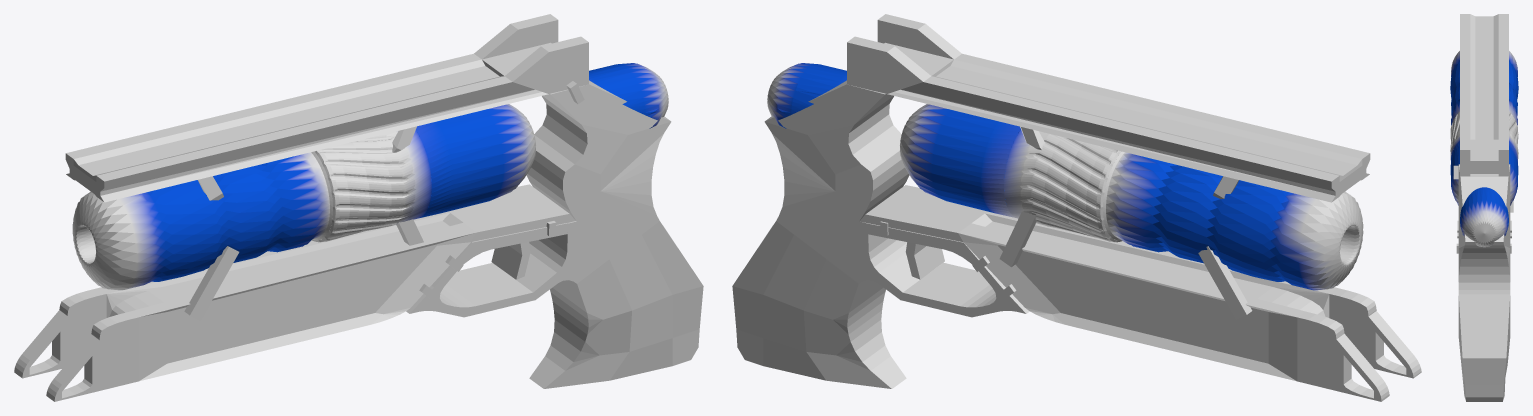
The model's file is Revolver.fbx.
3 views of the same model, side by side, from view 1: azimuth 30°, elevation 25°; view 2: azimuth 150°, elevation 25°; view 3: azimuth 270°, elevation 25° (orthographic). The views are drawn at different scales.
Visible parts, largest first — view 1: Cube, Cube.001, Cylinder, Cube.002, Cylinder.001, Cylinder.002, Cube.016, Cube.011; view 2: Cube, Cube.001, Cylinder, Cube.002, Cylinder.001, Cylinder.002, Cube.015, Cube.011, Cube.013; view 3: Cube, Cube.002, Cylinder.002, Cylinder, Cylinder.001, Cube.003.
Part boxes in pixels (x1,y1,x2,y2): Cube: (406,80,703,388); Cube.001: (14,184,575,401); Cylinder: (72,104,535,290); Cube.002: (65,14,588,202); Cylinder.001: (312,130,431,242); Cylinder.002: (589,63,668,128); Cube.016: (184,246,239,320); Cube.011: (491,242,530,279); Cube: (732,80,1029,388); Cube.001: (859,185,1421,401); Cylinder: (900,104,1363,290); Cube.002: (847,14,1370,202); Cylinder.001: (1004,129,1122,242); Cylinder.002: (767,63,846,128); Cube.015: (1198,246,1252,319); Cube.011: (905,242,944,279); Cube.013: (999,211,1036,267); Cube: (1458,164,1510,401); Cube.002: (1460,14,1508,176); Cylinder.002: (1460,187,1508,247); Cylinder: (1450,51,1518,205); Cylinder.001: (1450,111,1518,159); Cube.003: (1453,165,1458,179).
Bounding box in the file's own units: 2129 × 1085 × 307.
